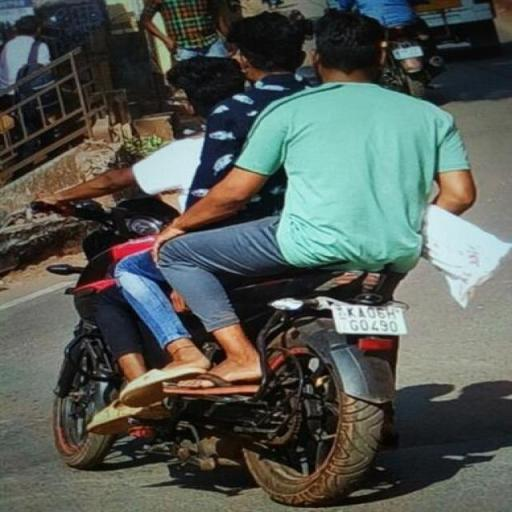tripple riding: (24, 6, 500, 282)
